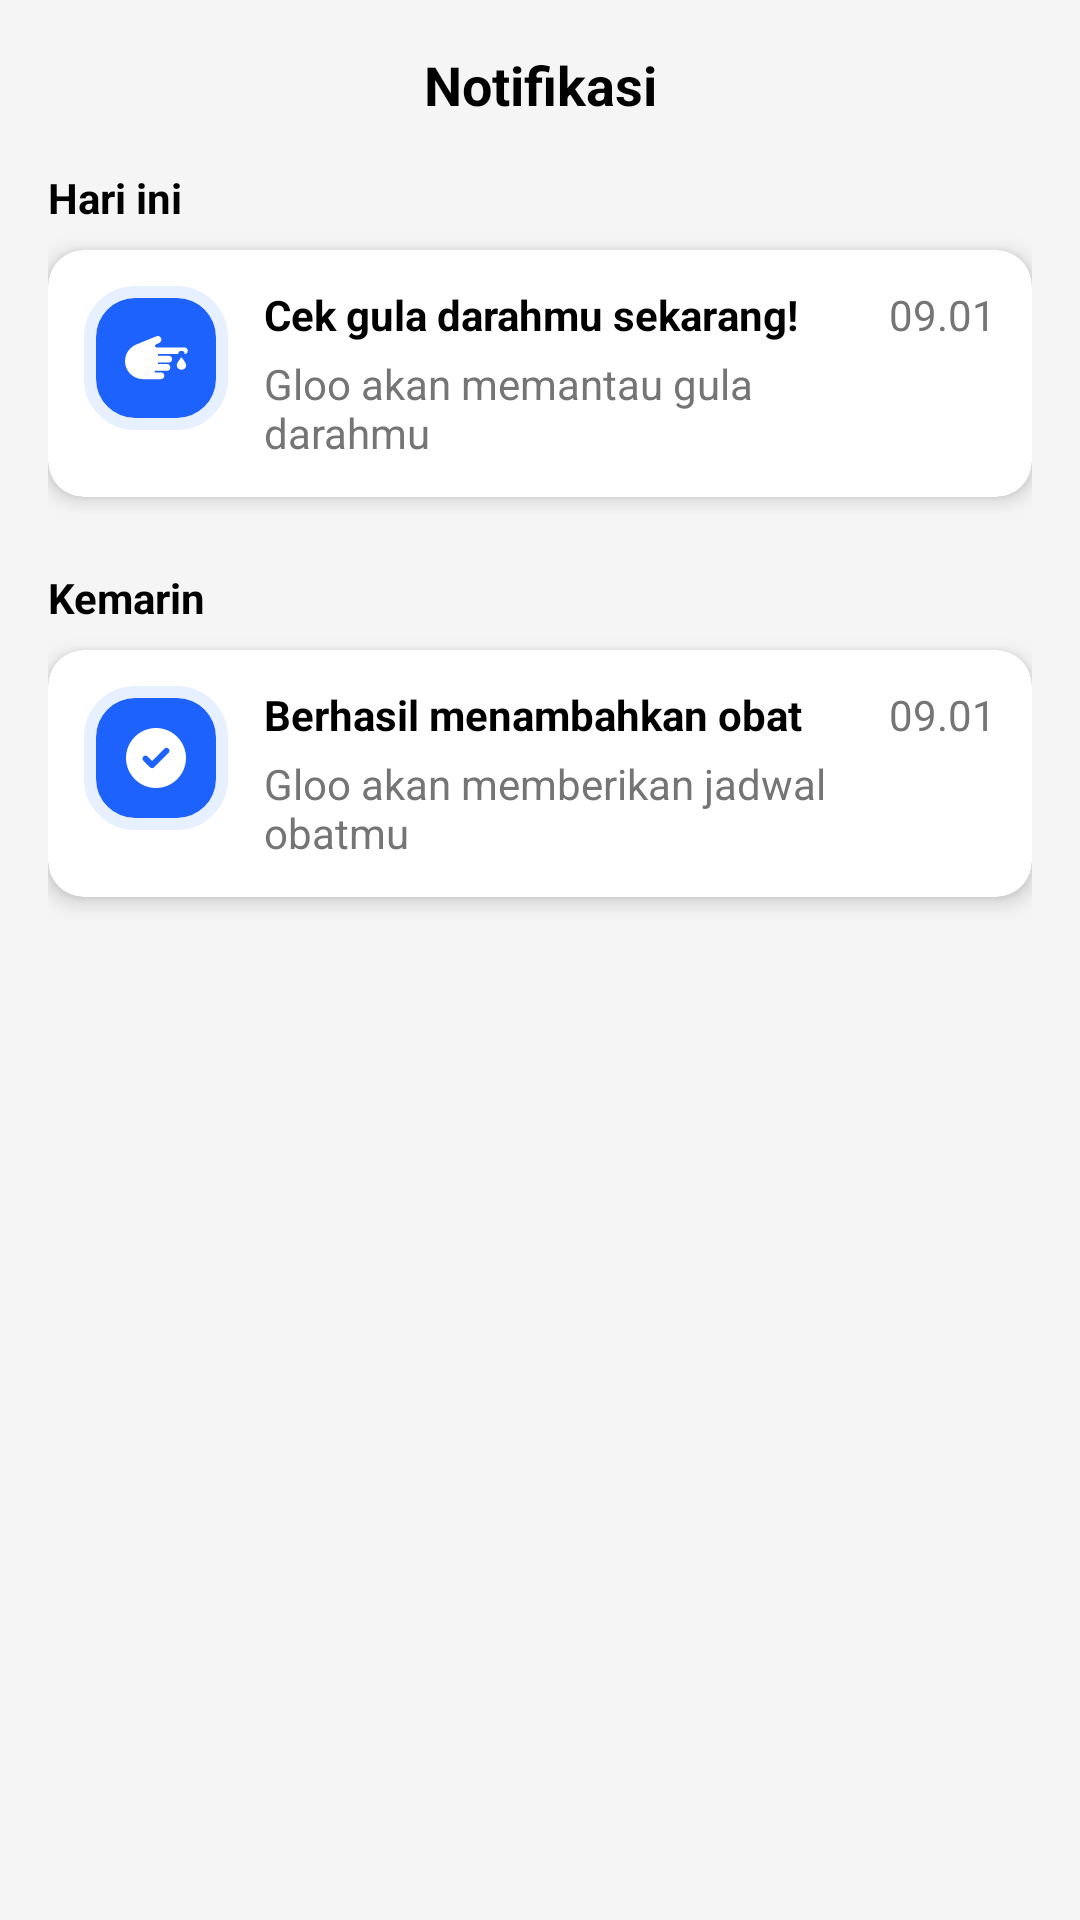

Icons on this 1080px×1920px Android screen, each with its box as (x1, y1, x2, y2):
notif check: (96, 698, 216, 818)
notif hand: (96, 298, 216, 418)
